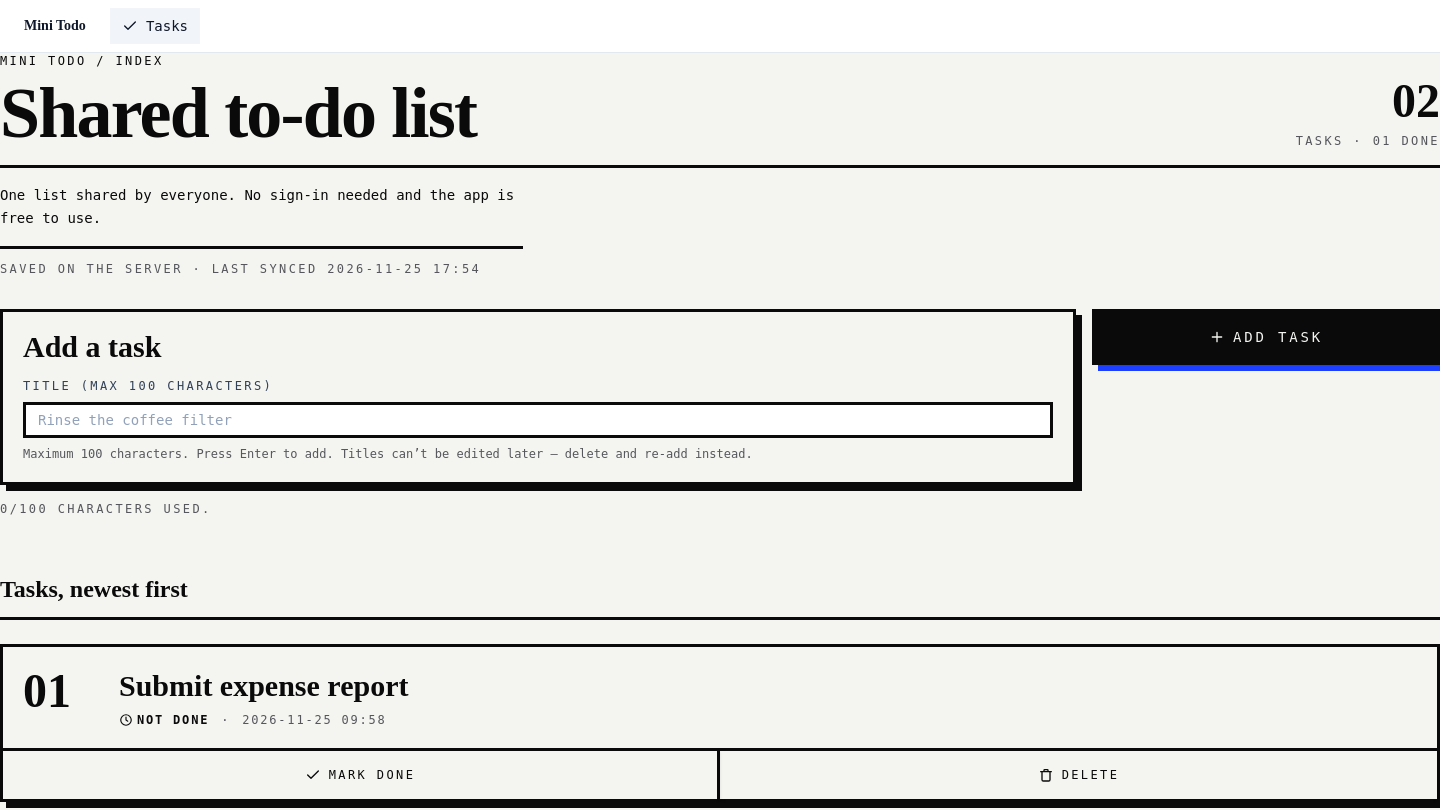
Scenario: App — anonymous access with no sign-in › [AC-022] marks any task done and not done again with no sign-in
The image size is (1440, 810).
Click the button with test id "mark-done-btn".
click(362, 775)  # box [3,751,720,799]
(page scrolled)
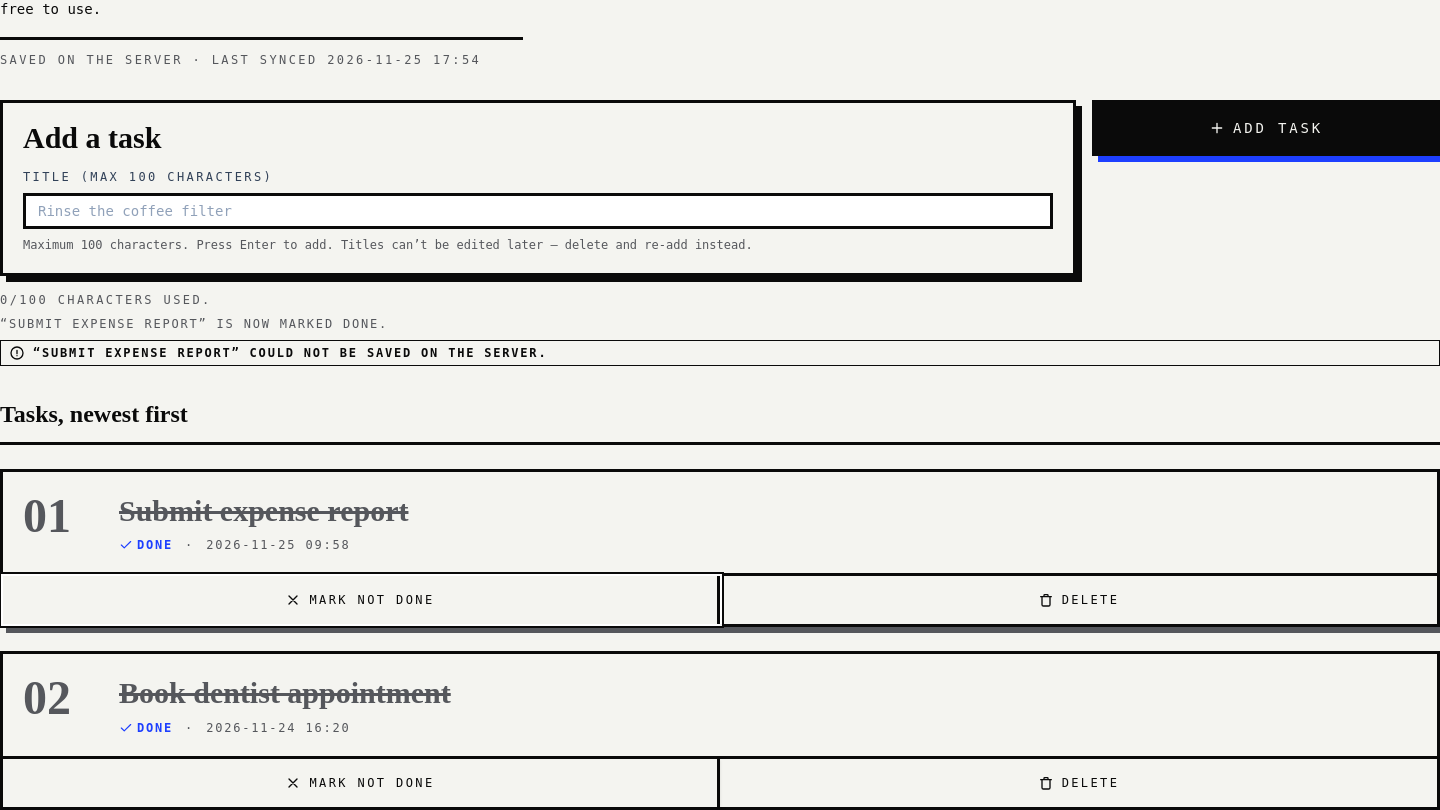
Check: the text "Done" next to "2026-11-25 09:58" is shown, box [137,538,173,552]
Click the button with test id "mark-not-done-btn".
click(362, 600)  # box [3,576,720,624]
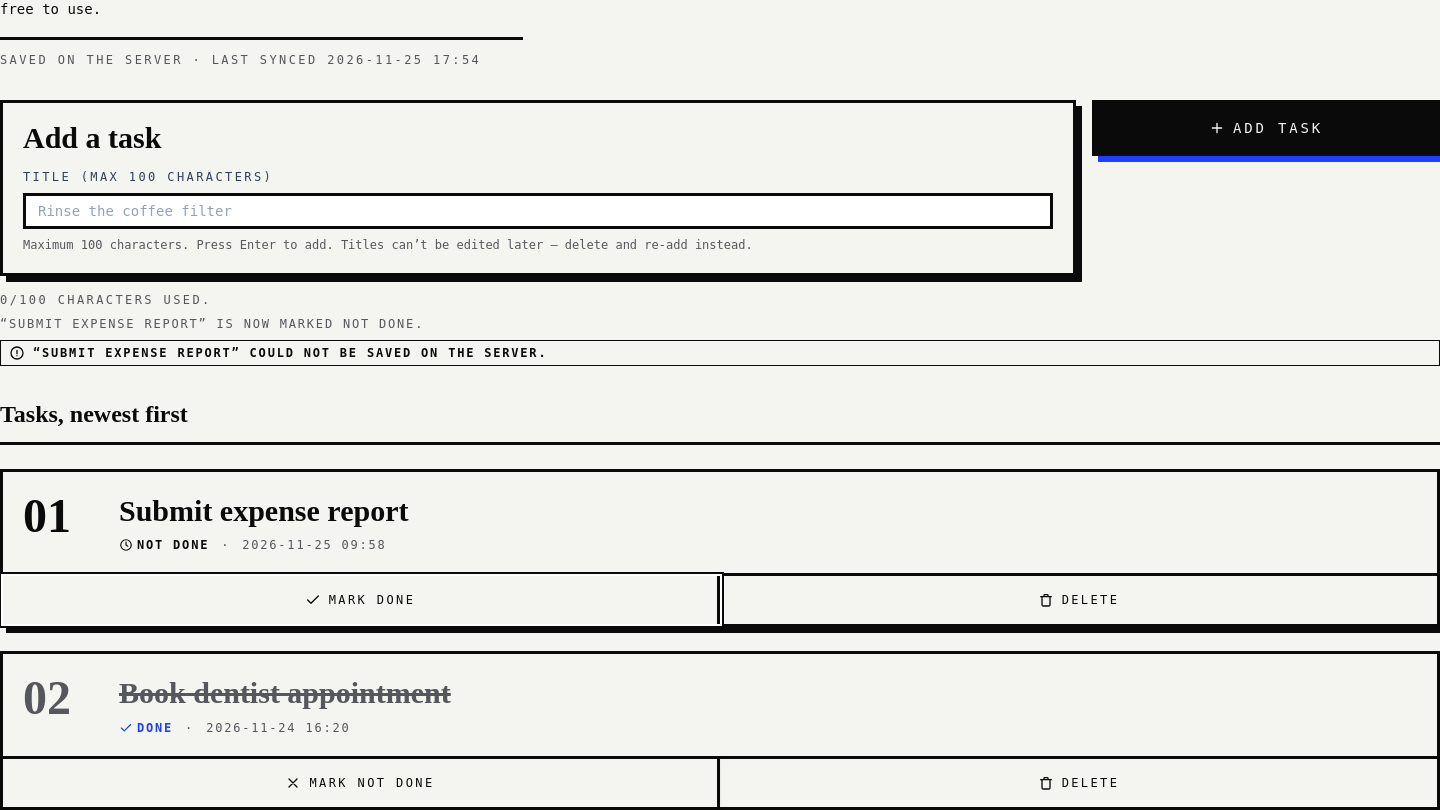
Check: the text "Not done" is shown, box [119,537,209,553]
